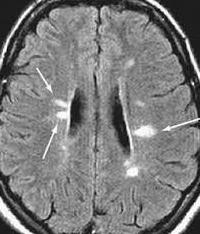Normal_Brain: (1, 1, 200, 234)
